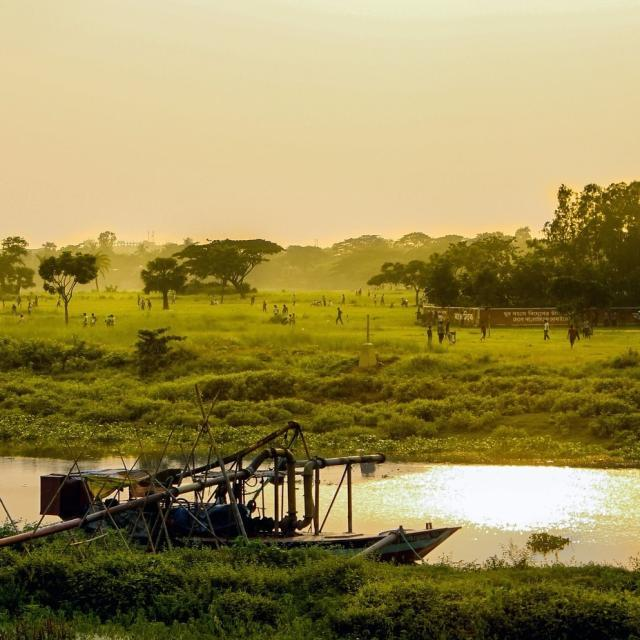boat: (31, 468, 455, 576)
